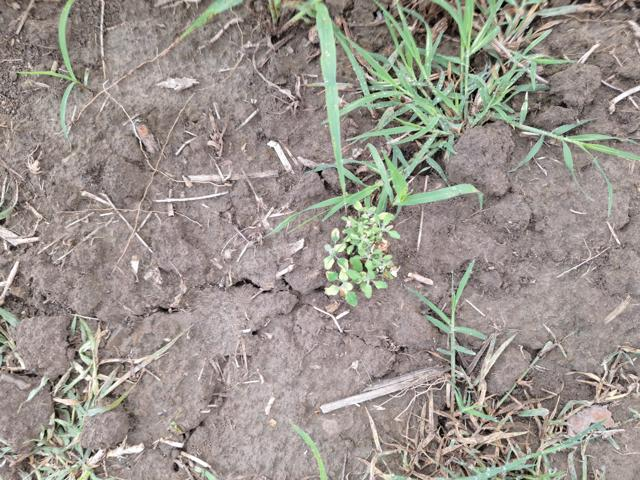bad weed: (298, 0, 628, 200), (314, 322, 640, 480), (28, 304, 197, 480), (308, 211, 414, 302)
